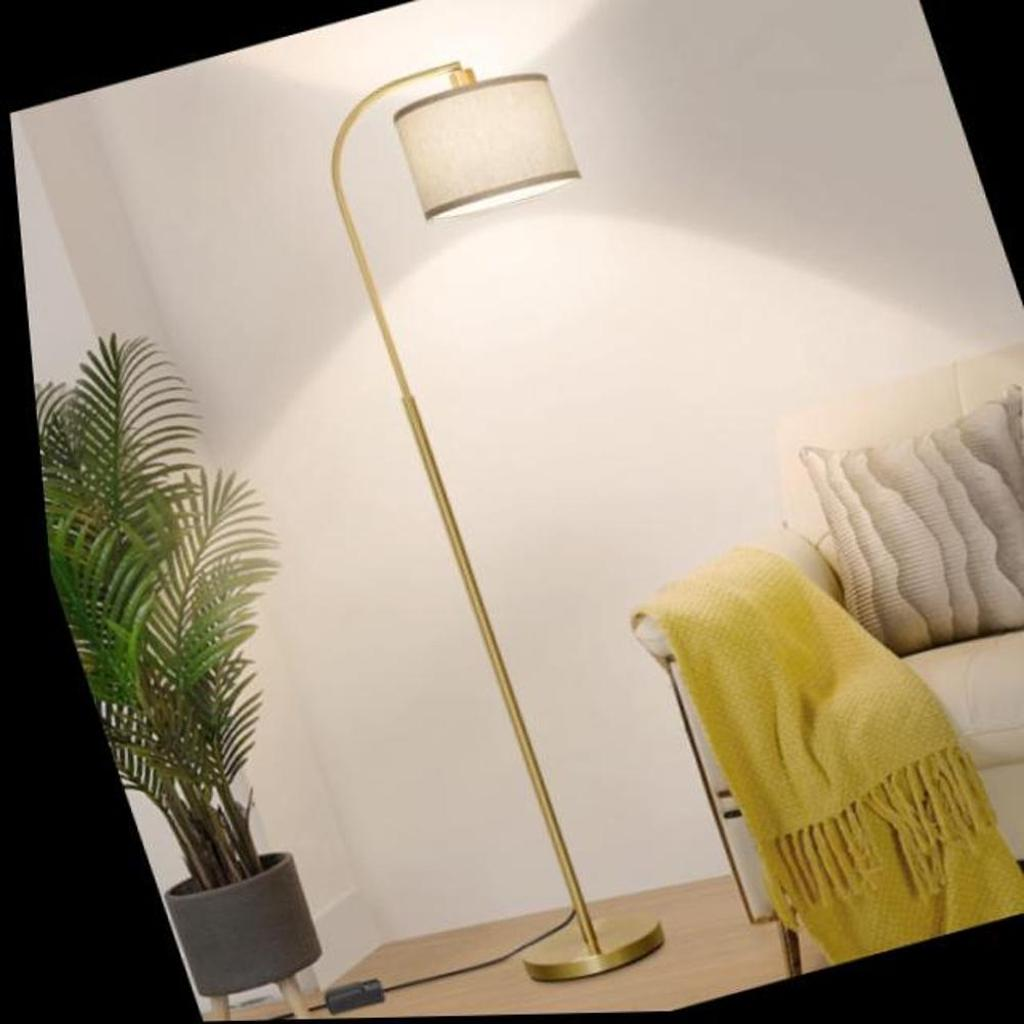shelf: (227, 0, 842, 998)
